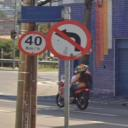NoVirarEsquerda: (46, 20, 91, 61)
speed_limit_40: (17, 31, 48, 56)
